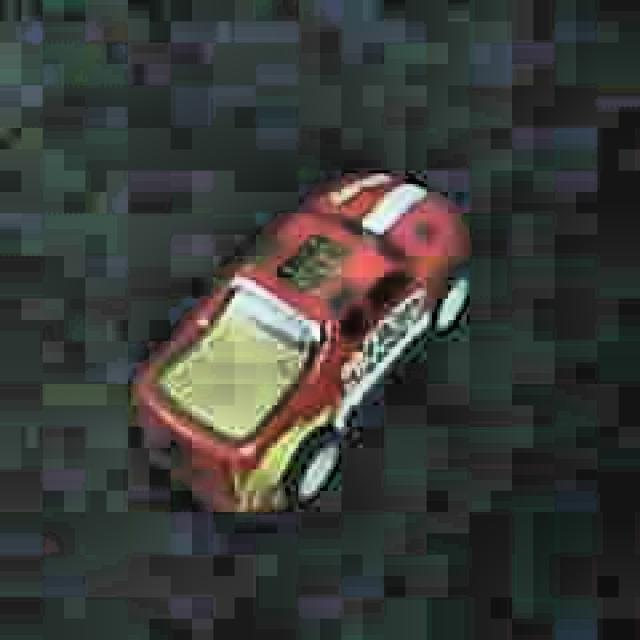car: (127, 166, 475, 518)
